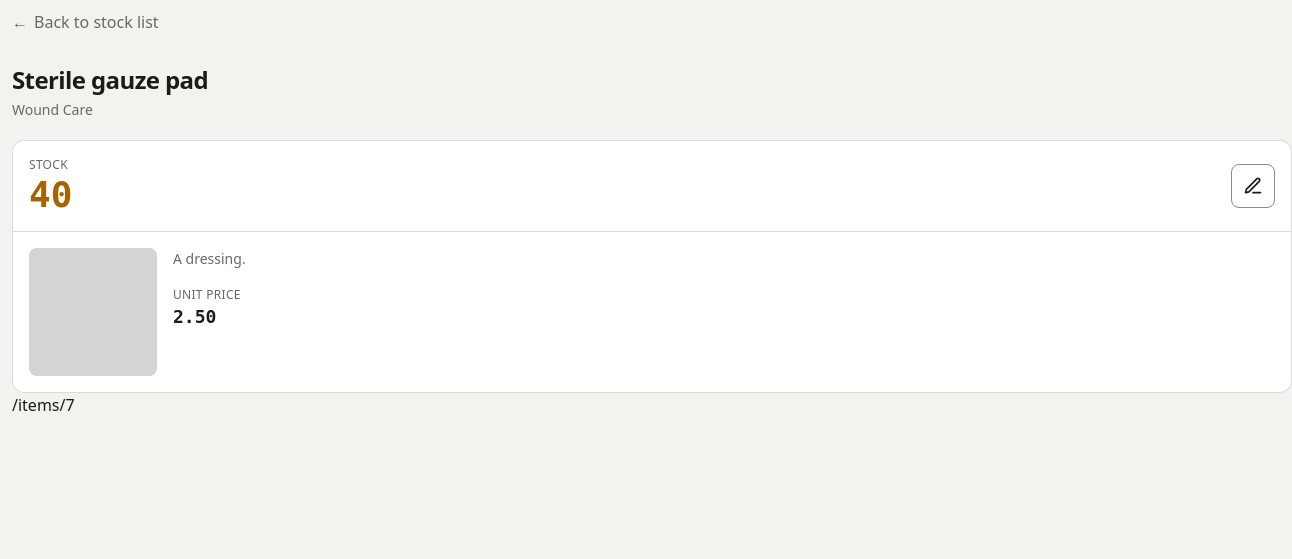
it: StockCorrectionForm › stays closed until the toggle opens it, then puts focus in the count
Expected: the heading "Sterile gauze pad" is shown, top-left (12, 63), bottom-right (208, 96)
What coordinates should you click on to do the following:
click the button named "Correct stock count"
I would click on:
 (1253, 186)
Its box is top-left (1231, 164), bottom-right (1275, 208).
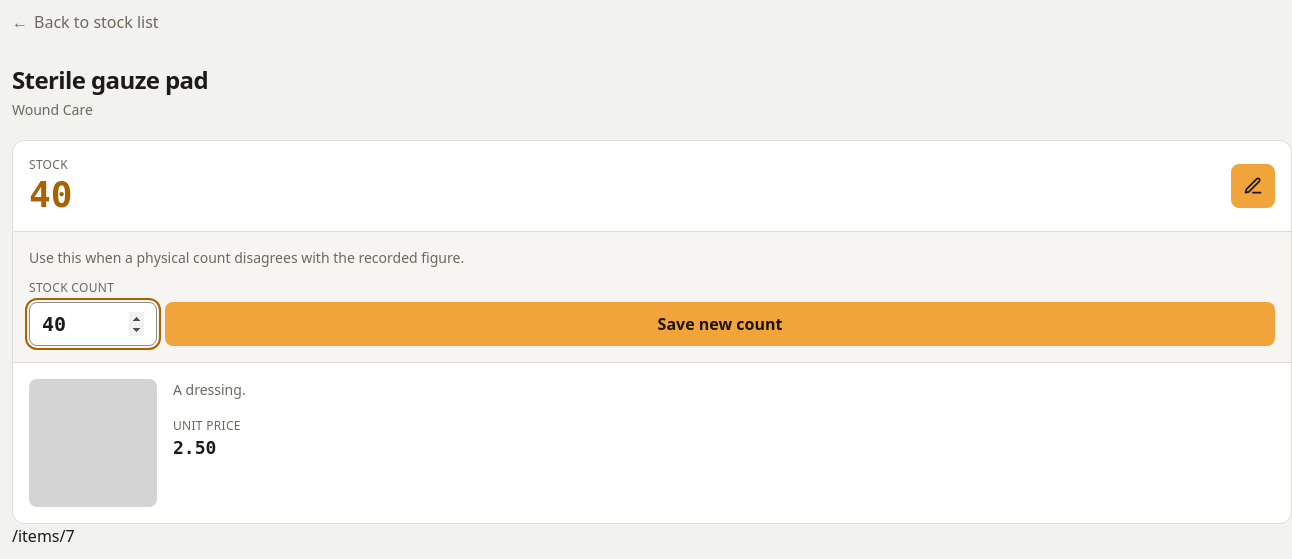
Now the button named "Correct stock count" is expanded
What coordinates should you click on to do the following:
click the button named "Correct stock count"
I would click on:
 (1253, 186)
Its box is top-left (1231, 164), bottom-right (1275, 208).
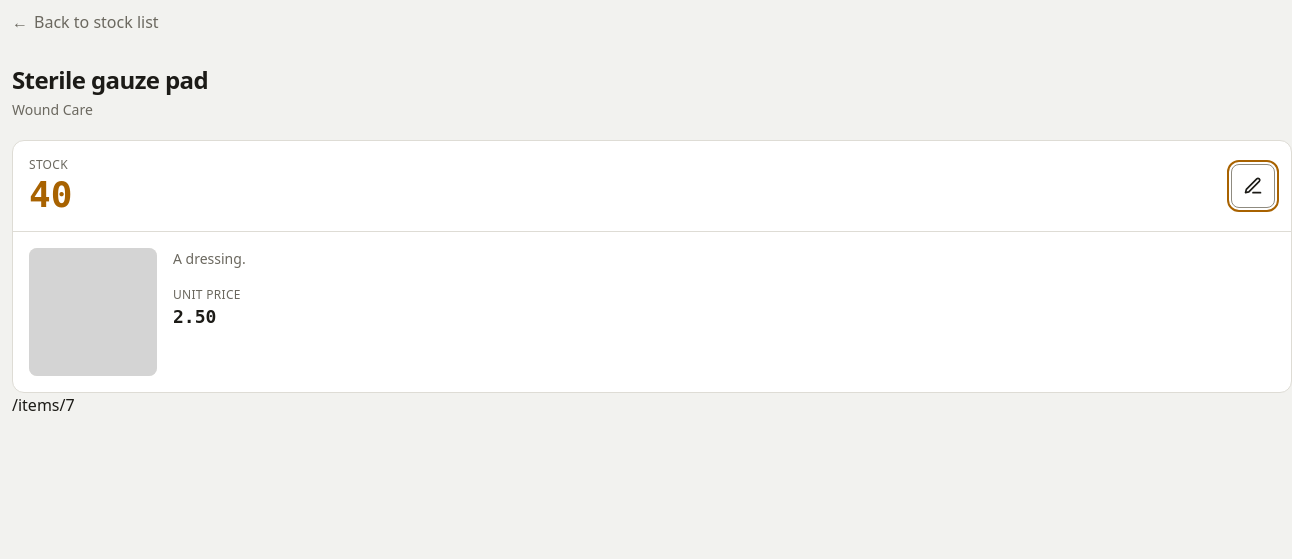
Now the button named "Correct stock count" is collapsed, box top-left (1231, 164), bottom-right (1275, 208)
